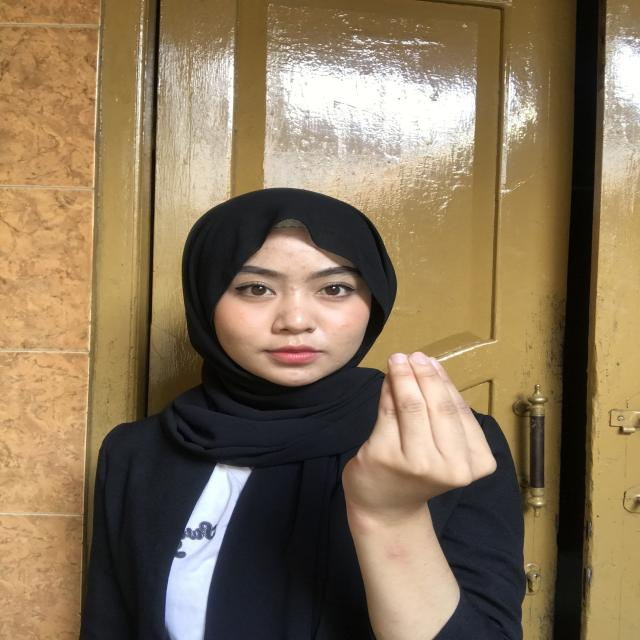kapan: (350, 344, 508, 520)
